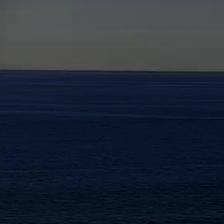surfer: (147, 220, 154, 223)
